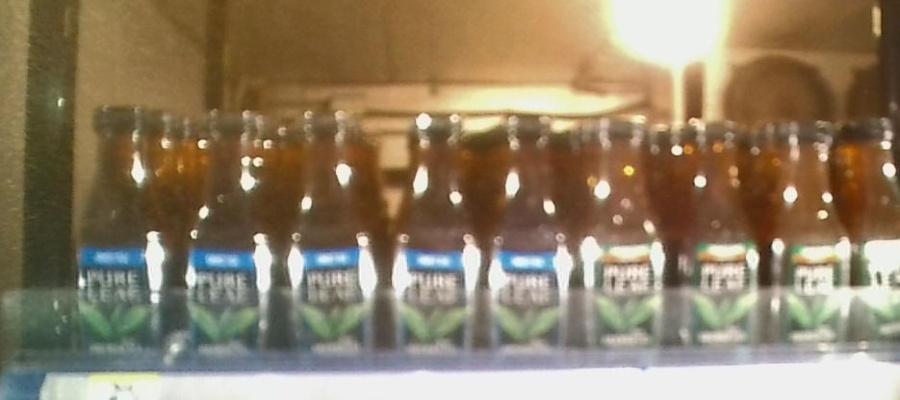bottle: (72, 97, 181, 369), (280, 106, 376, 372), (184, 103, 277, 375), (384, 111, 480, 374), (576, 119, 670, 370), (675, 115, 764, 367), (486, 112, 572, 372), (767, 125, 854, 361), (856, 116, 899, 358)
